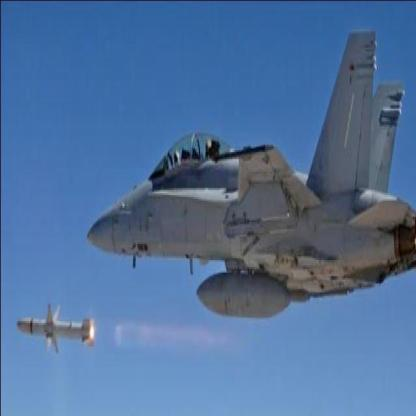MIL_TBM: (16, 319, 94, 340)
